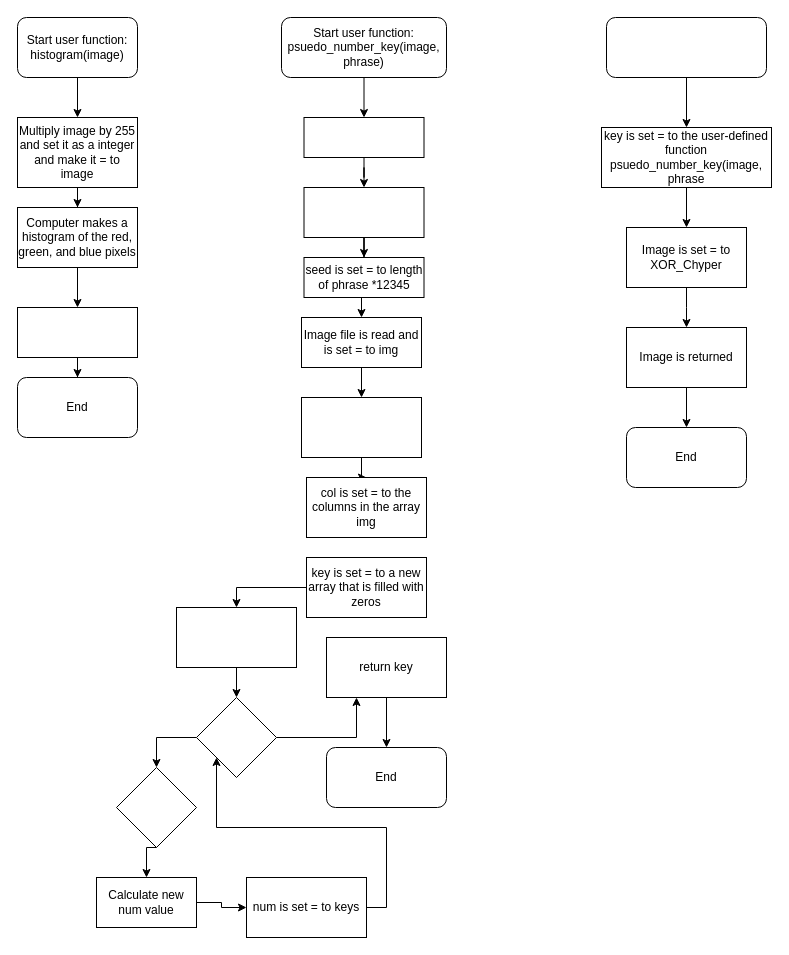
This 789x955 diagram has some shape labels left out. Each missing label, with the box of its shape:
' ' is replaced to ' ' and is set = to phrase: (303, 116, 424, 158)
For c in list column: (116, 766, 196, 848)
For r in list row: (196, 696, 276, 778)
len_phrase is set = to the length of the list phrase: (303, 186, 424, 238)
plt.legend() is returned: (16, 306, 138, 358)
Random number generator is intialized and is set = to num: (176, 606, 296, 668)
row is set = to the rows in the array img: (300, 396, 422, 458)
Start user function: encryption_image(image, phrase: (606, 16, 766, 78)
